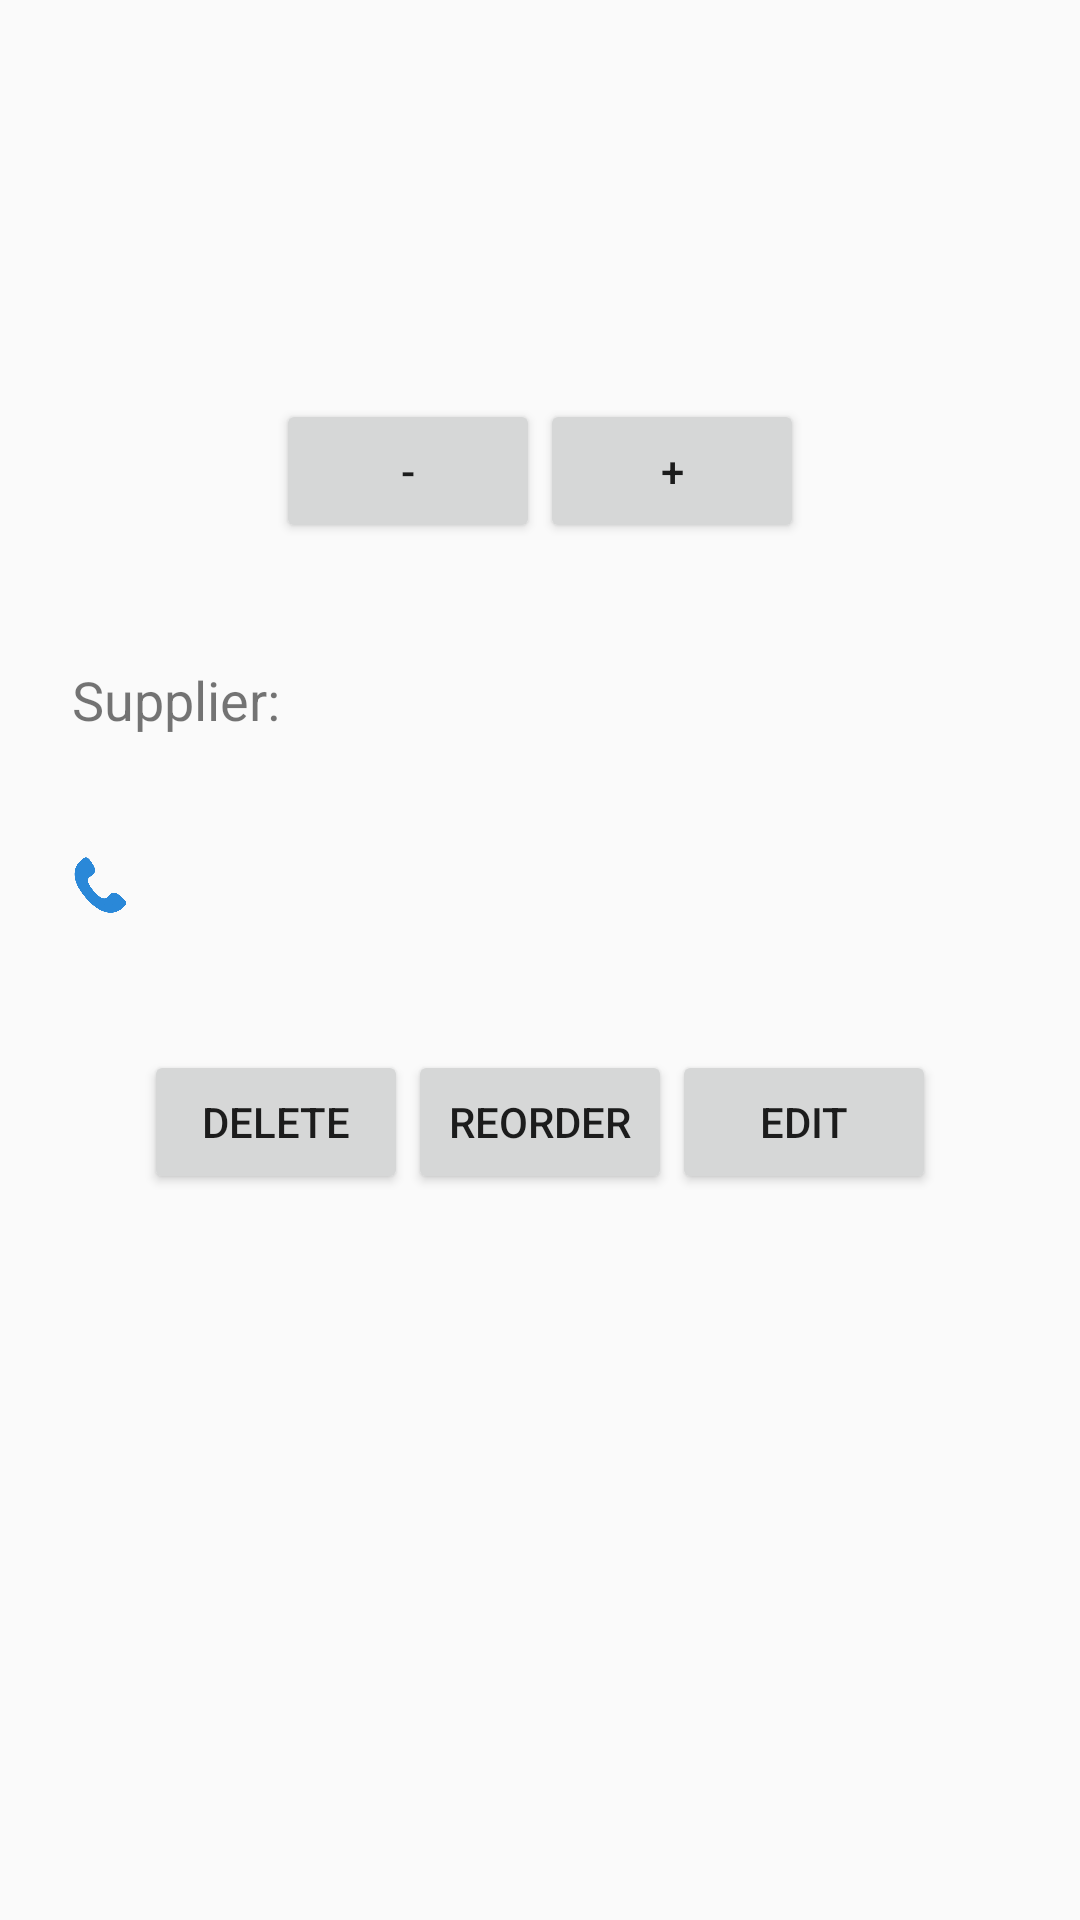

Where icons sit on this 1080px x 1920px app screen, as (x1, y1, x2, y2):
phone: (74, 857, 126, 913)
